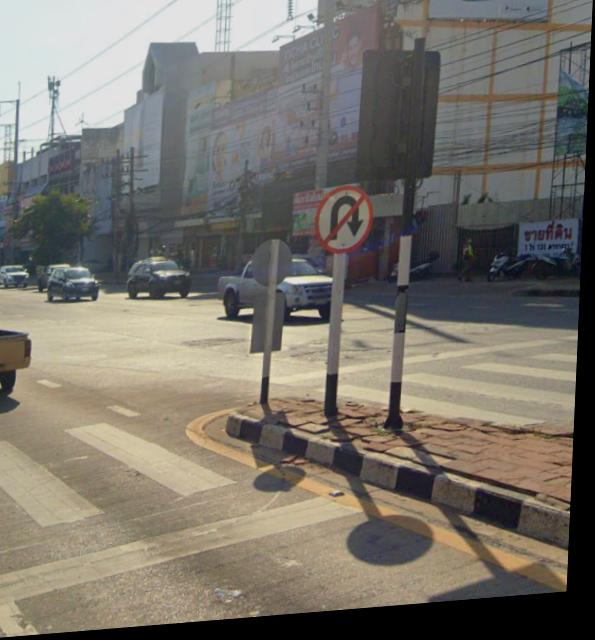not_u_turn_right: (313, 192, 378, 264)
